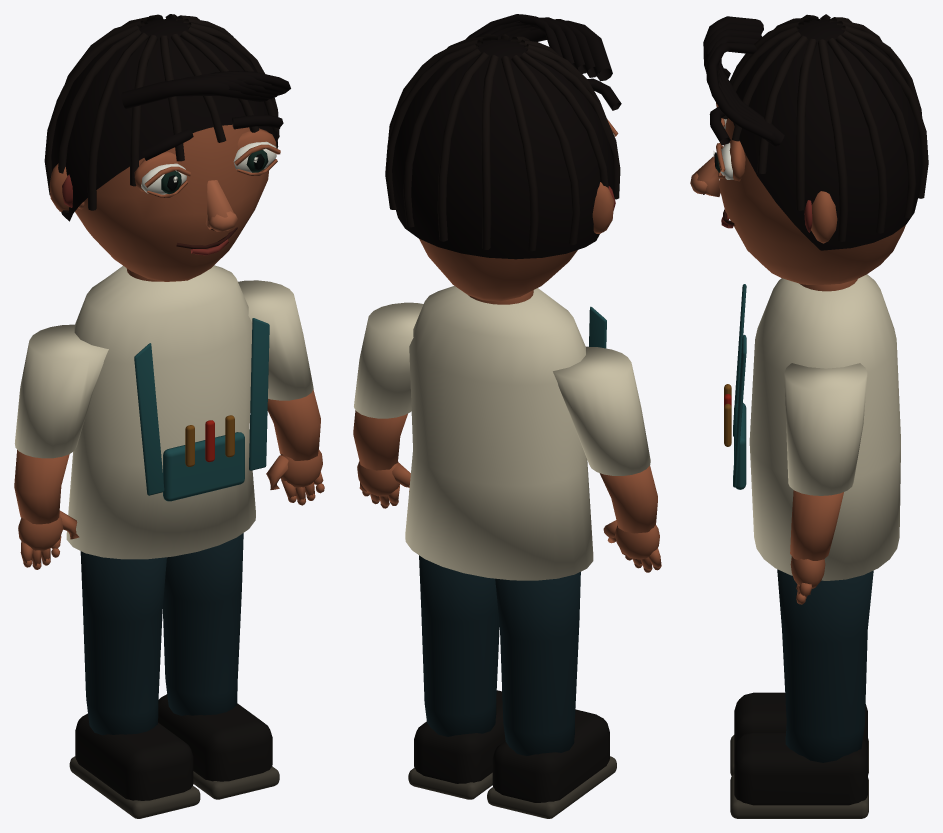
File: technician-08.glb
3 views of the same model, side by side, from view 1: azimuth 30°, elevation 25°; view 2: azimuth 150°, elevation 25°; view 3: azimuth 270°, elevation 25° (orthographic). The views are drawn at different scales.
Visible parts, largest first — view 1: Body, Head, LegL, LegR, ArmL, ArmR; view 2: Head, Body, LegL, LegR, ArmL, ArmR; view 3: Head, Body, LegR, ArmR, LegL.
Part boxes in pixels (x1,y1,x2,y2): Body: (66, 265, 269, 559); Head: (44, 14, 290, 281); LegL: (69, 551, 200, 818); LegR: (158, 533, 279, 799); ArmL: (14, 324, 108, 569); ArmR: (238, 280, 324, 505); Head: (385, 14, 621, 301); Body: (405, 286, 606, 580); LegL: (487, 572, 616, 818); LegR: (408, 555, 505, 799); ArmL: (553, 346, 661, 572); ArmR: (353, 302, 423, 508); Head: (690, 14, 928, 284); Body: (724, 274, 900, 580); LegR: (730, 569, 873, 818); ArmR: (784, 363, 867, 604); LegL: (730, 692, 868, 775).
Bounding box in the file's own units: 0.5566 × 1.32 × 0.3756.
